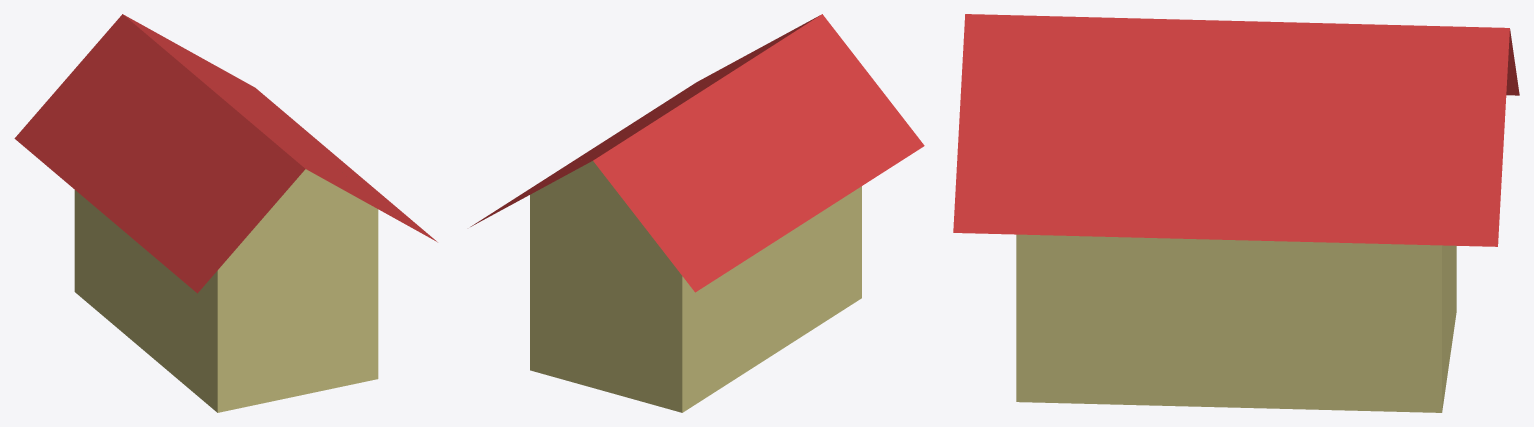
3 renders of one model, left to right at view 1: azimuth 30°, elevation 25°; view 2: azimuth 150°, elevation 25°; view 3: azimuth 270°, elevation 25°, orthographic. The views are drawn at different scales.
Bounding box in the file's own units: 9.84 × 14.25 × 9.11.
